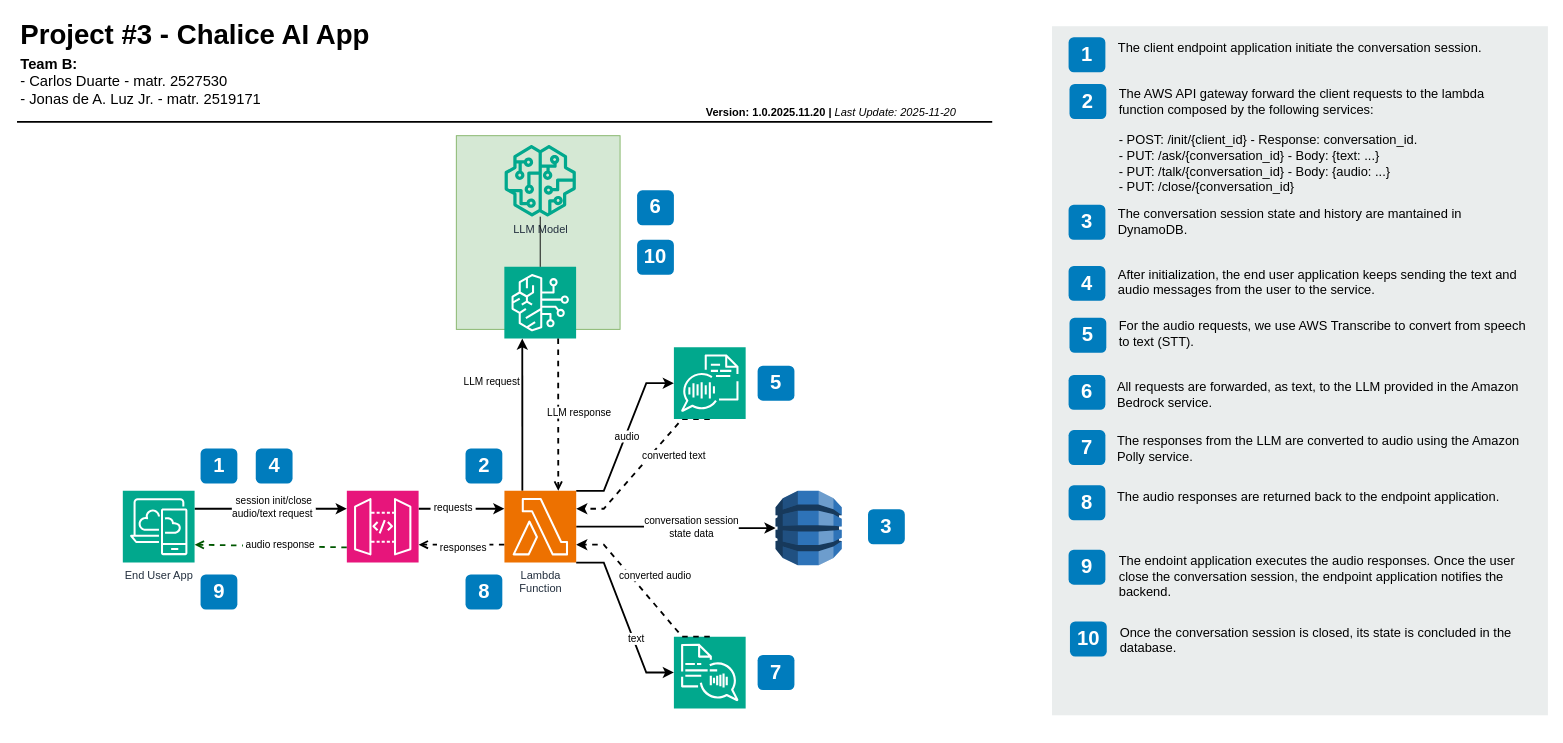
This 1563x743 diagram has some shape labels left out. Each missing label, with the box of its shape:
Amazon BedRock: (503, 266, 576, 339)
Amazon DynamoDB: (775, 490, 842, 565)
Amazon Polly: (673, 636, 746, 708)
AWS API Gateway: (346, 490, 419, 563)
AWS Transcribe: (673, 346, 746, 419)
